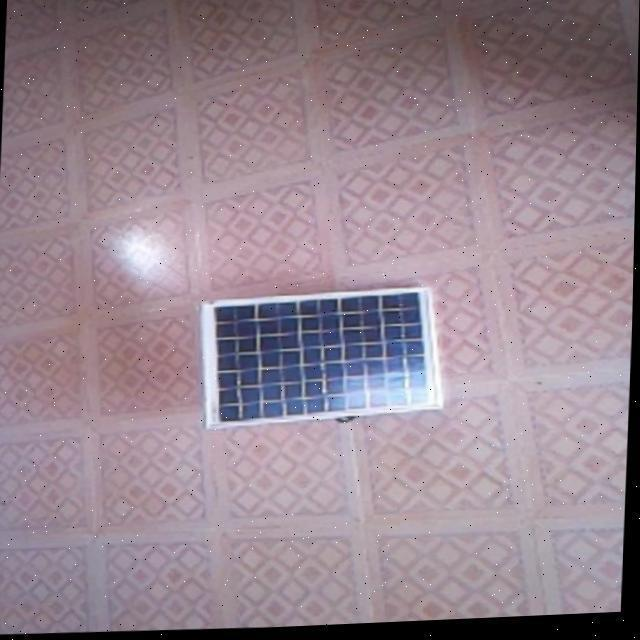Normal Solar Panel: (198, 288, 448, 436)
